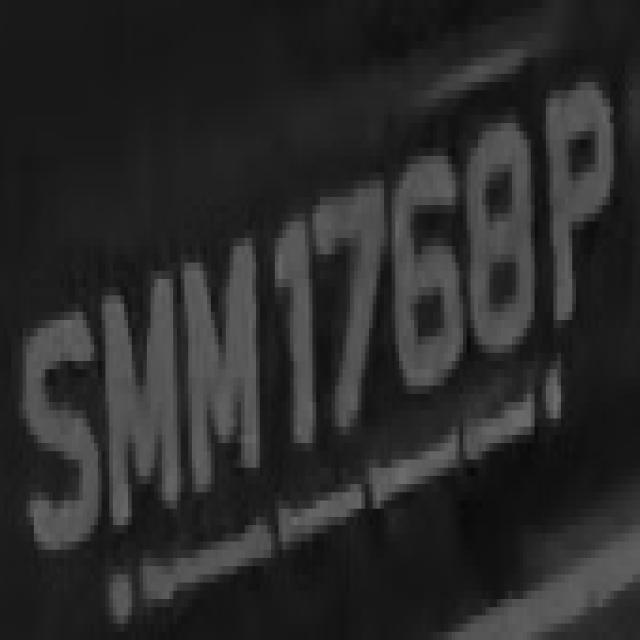1: (271, 181, 328, 484)
6: (384, 123, 471, 410)
7: (308, 189, 392, 451)
8: (456, 98, 542, 386)
M: (94, 238, 188, 525), (170, 238, 268, 509)
P: (534, 50, 618, 336)
S: (15, 287, 102, 583)
